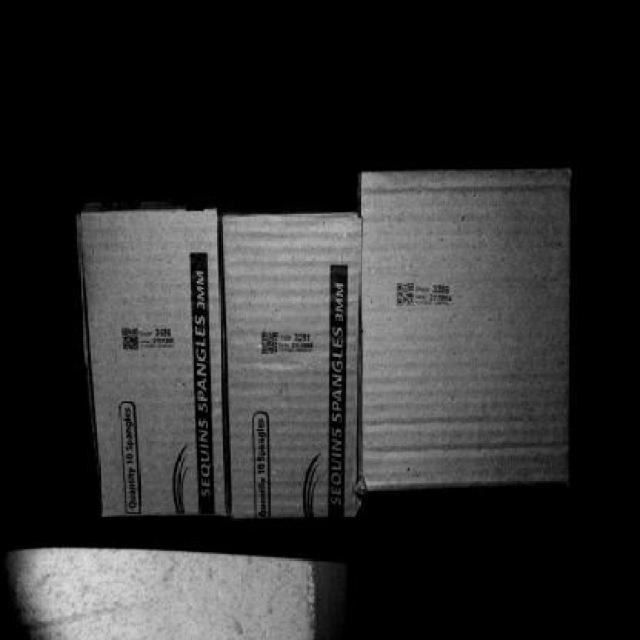cardboxes: (368, 173, 569, 482), (83, 215, 228, 514), (228, 218, 360, 524)
